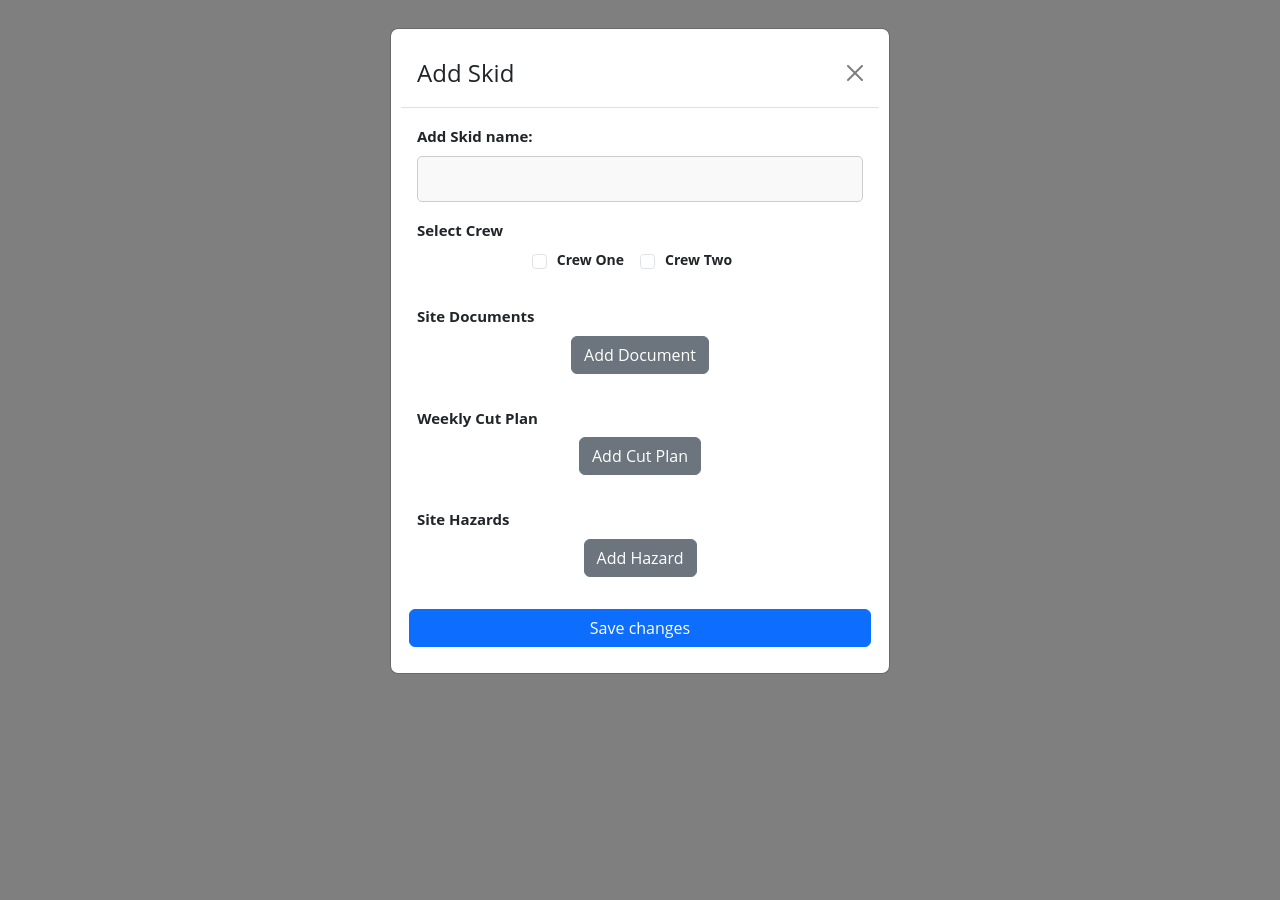
Test: AddOrEditSkidModal › opens Add Hazard Modal
Click the button with test id "openHazardModal".
click(640, 558)  # box [584,538,696,576]
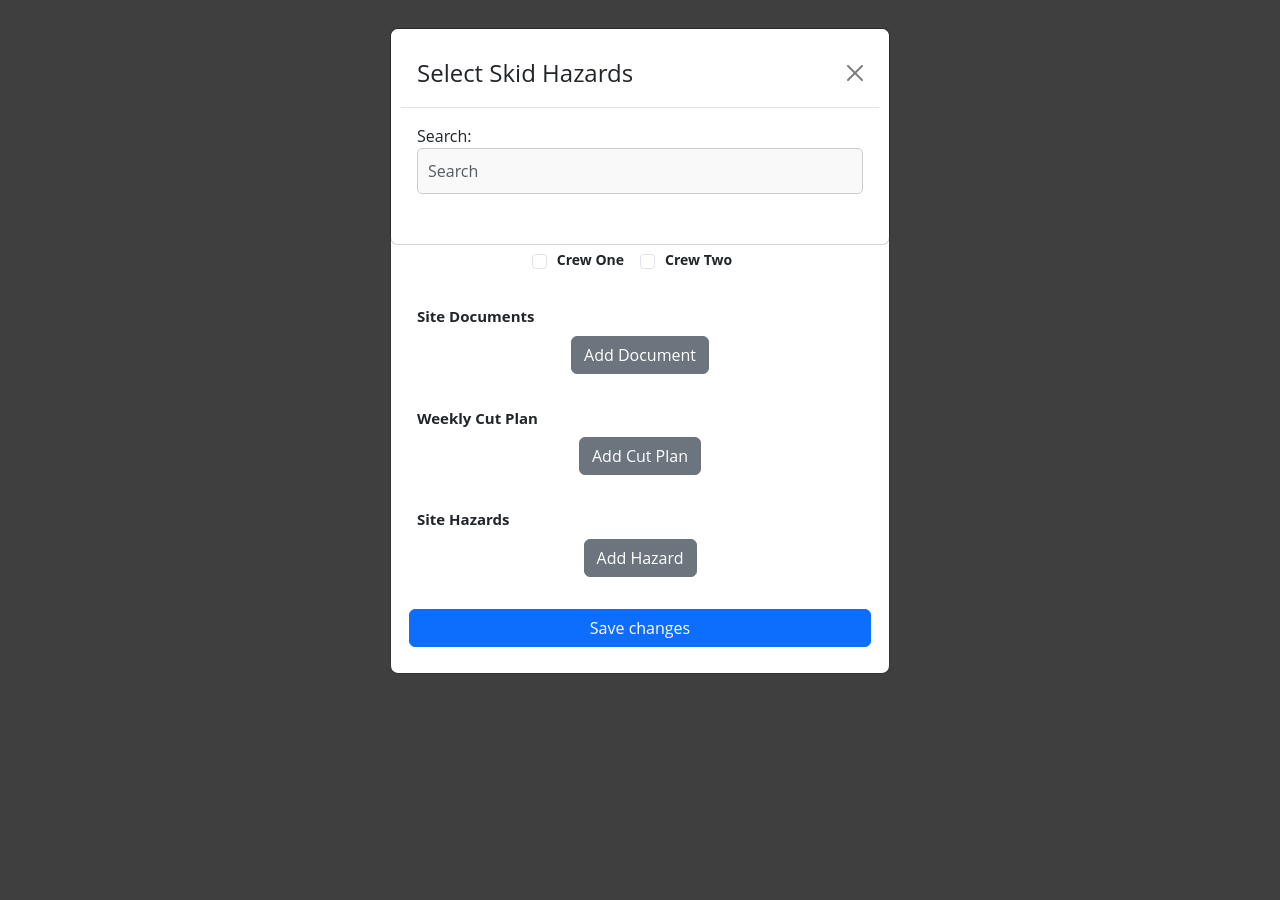
expect the text "Select Skid Hazards" is shown: met, box [417,55,633,91]
